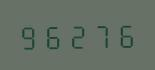nine: (18, 21, 41, 50)
seven: (90, 19, 113, 49)
six: (42, 20, 65, 50), (114, 19, 137, 48)
two: (66, 20, 89, 49)
